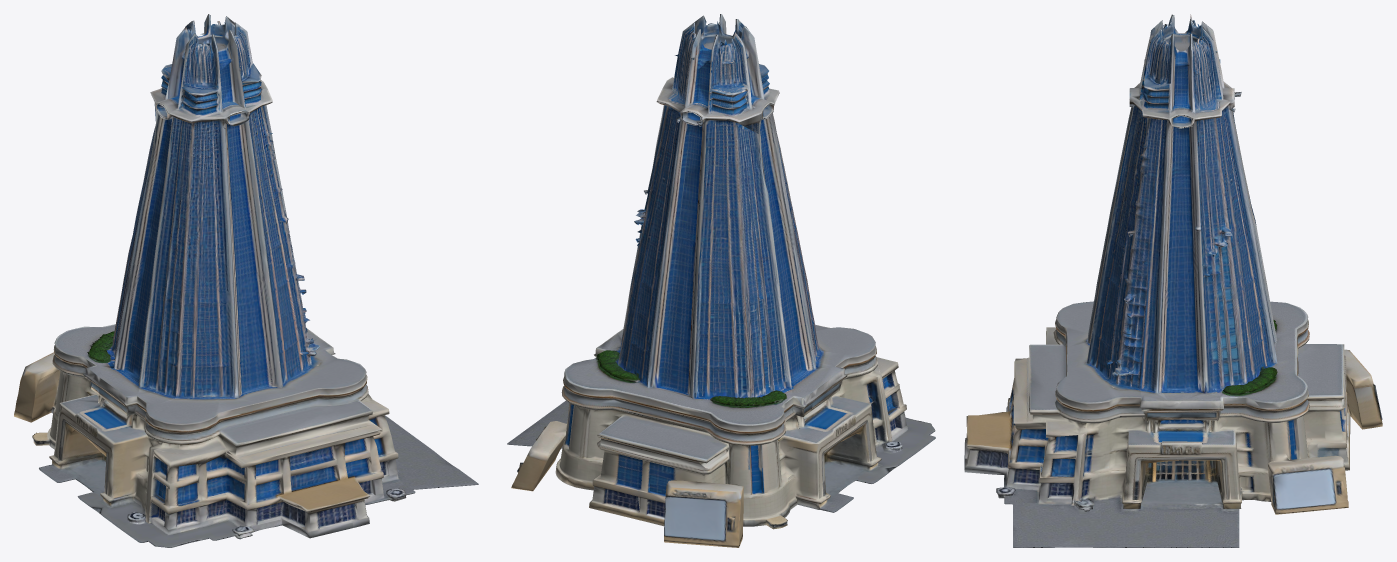
File: PallasAI_Higgsfield_Raw.glb
3 views of the same model, side by side, from view 1: azimuth 30°, elevation 25°; view 2: azimuth 150°, elevation 25°; view 3: azimuth 270°, elevation 25° (orthographic).
Visible parts, largest first — view 1: tripo_node_bf1a1ded-46b5-43a5-9ec6-59fd8aa52fb6; view 2: tripo_node_bf1a1ded-46b5-43a5-9ec6-59fd8aa52fb6; view 3: tripo_node_bf1a1ded-46b5-43a5-9ec6-59fd8aa52fb6.
Part boxes in pixels (x1,y1,x2,y2): tripo_node_bf1a1ded-46b5-43a5-9ec6-59fd8aa52fb6: (14,14,478,547); tripo_node_bf1a1ded-46b5-43a5-9ec6-59fd8aa52fb6: (507,14,935,547); tripo_node_bf1a1ded-46b5-43a5-9ec6-59fd8aa52fb6: (964,14,1382,547).
Bounding box in the file's own units: 0.7591 × 0.985 × 0.8538.
Materials: 1 (1 with a texture image).
